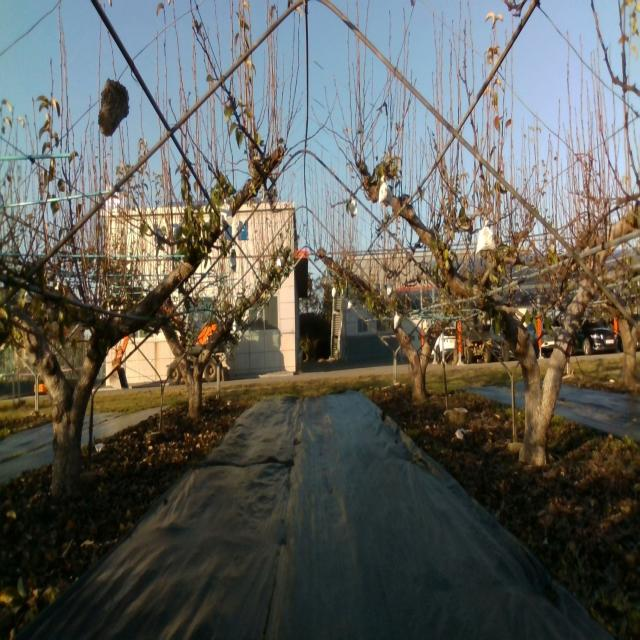pearbags: (476, 219, 494, 256), (379, 175, 392, 206), (220, 200, 232, 231)
